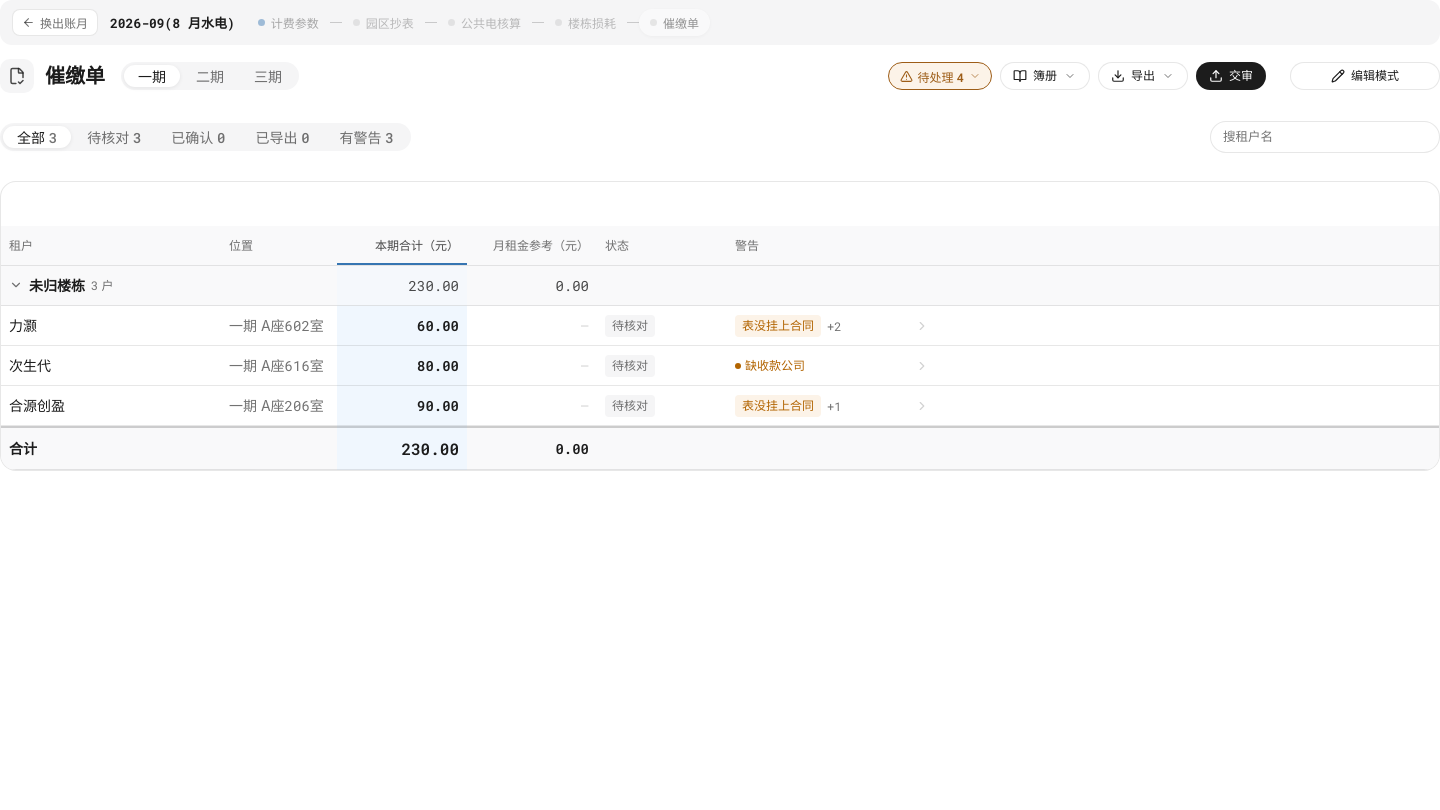
Test: 催缴单抽屉 · ① 告警是副标题行上的徽标,不占正文的一行 › 一类一个徽标,写明类名与条数;正文里没有整宽告警块
Step 1. Click the row "力灏 一期 A座602室 60.00 – 待核对 表没挂上合同 +2" → (720, 326), box [1,306,1439,346]
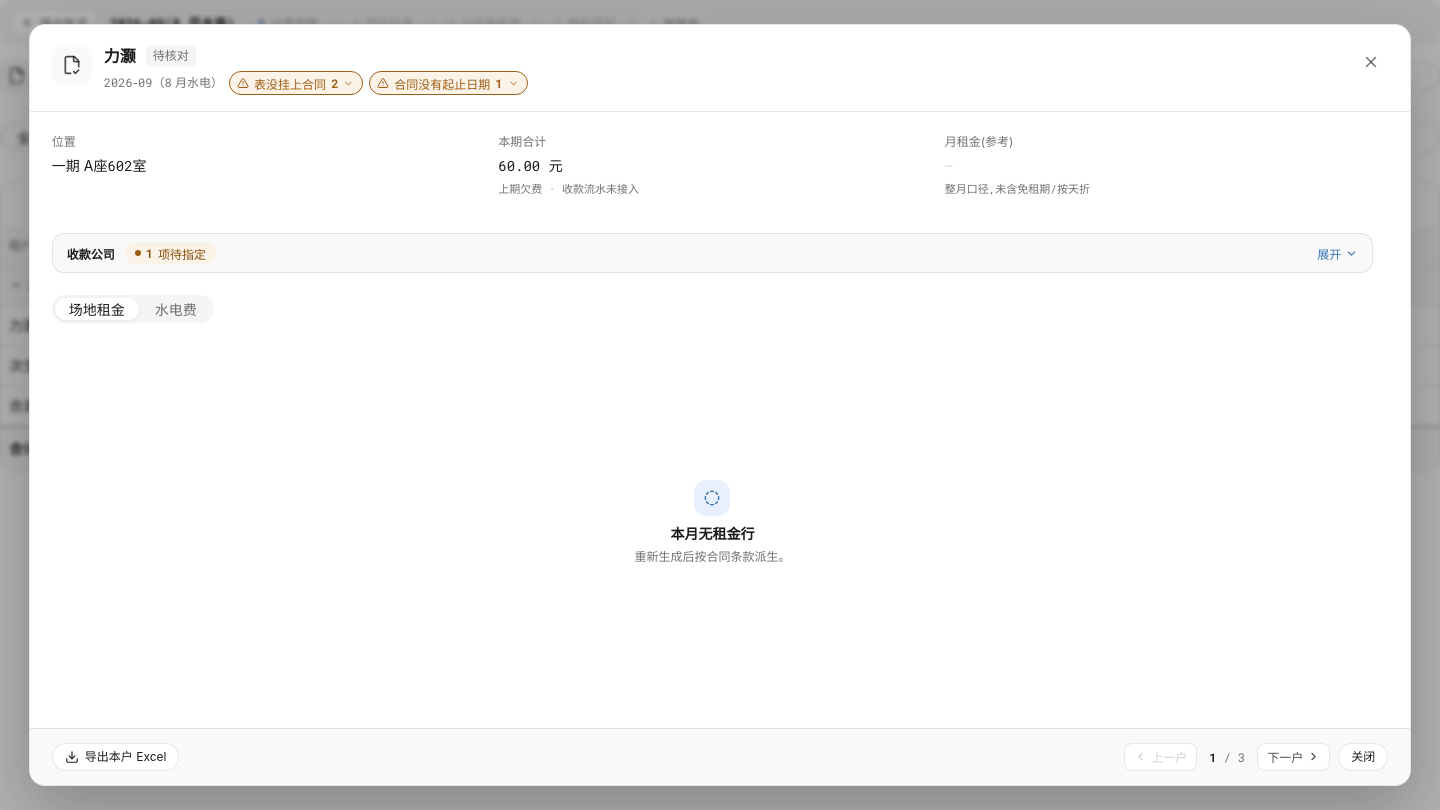
Now the number of buttons with class "bn-abadge" is 2, box [229,71,363,95]; [369,71,528,95]
Now the button with class "bn-abadge" shows "表没挂上合同", box [229,71,363,95]
Now the button with class "bn-abadge" shows "2", box [229,71,363,95]
